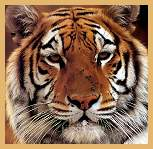Tigre: (12, 13, 138, 134)
